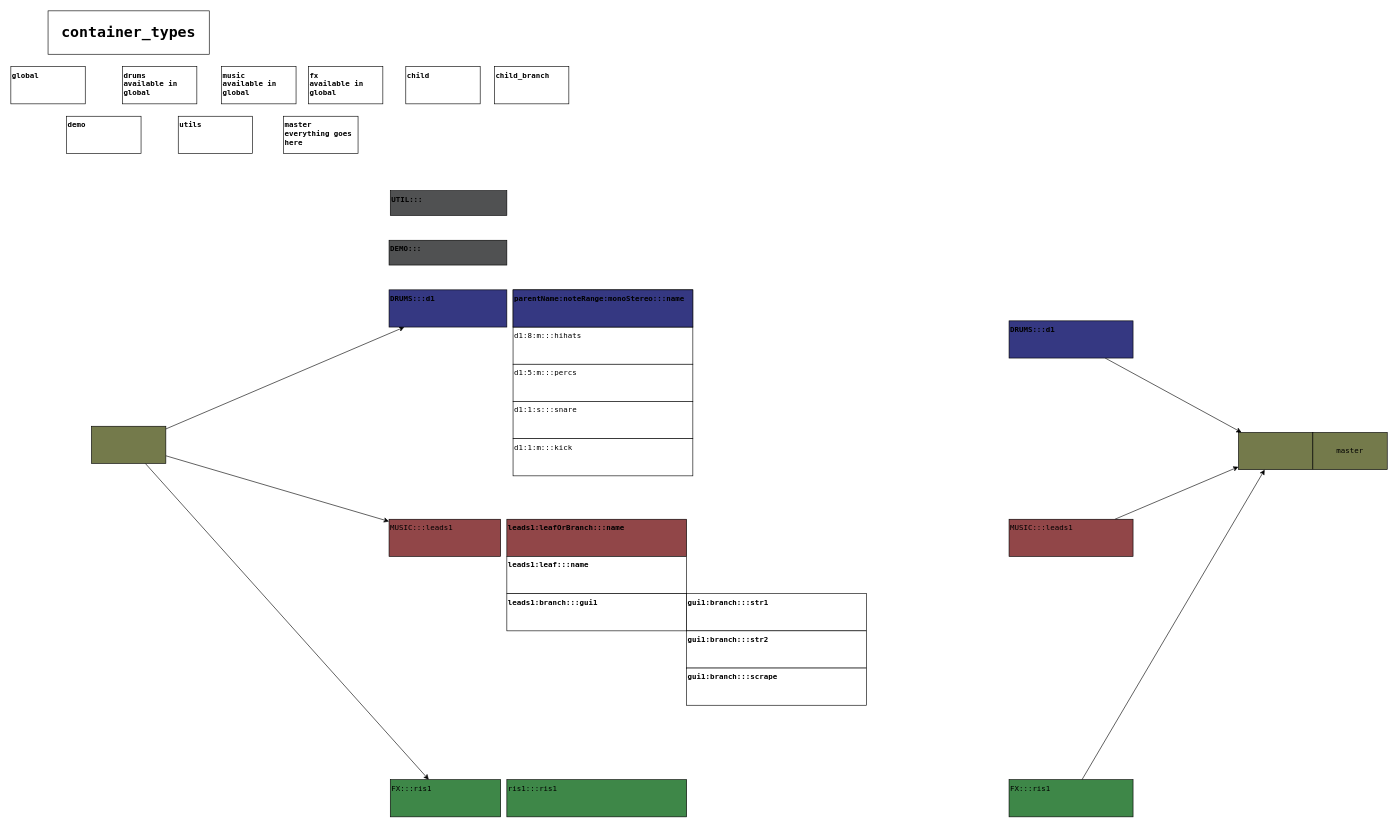
The diagram is 1398 pixels wide and 828 high, and some of its shapes have lost their labels. Here are the shapes that lost their labels. From the top down, the centre of each, then its label:
At point (128, 444): "global:".
At point (1275, 451): "mix".
